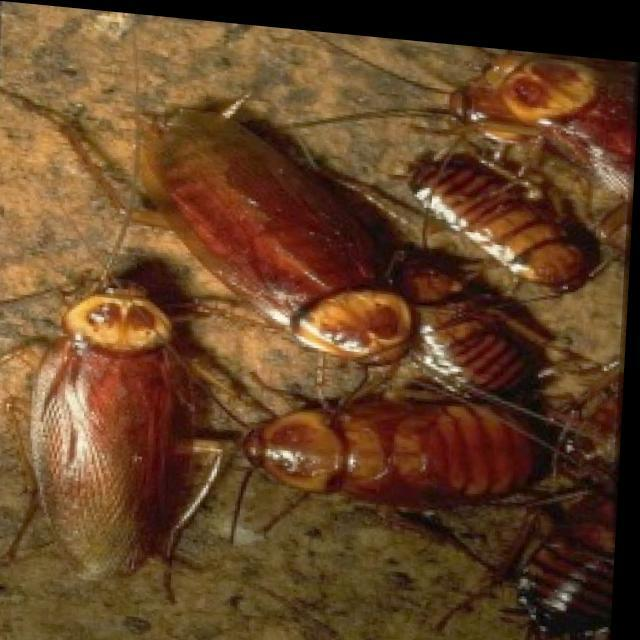cockroach: (111, 56, 416, 401), (0, 238, 205, 600), (222, 365, 568, 521), (408, 134, 600, 330), (374, 237, 548, 421), (447, 33, 640, 196), (502, 476, 640, 636)
